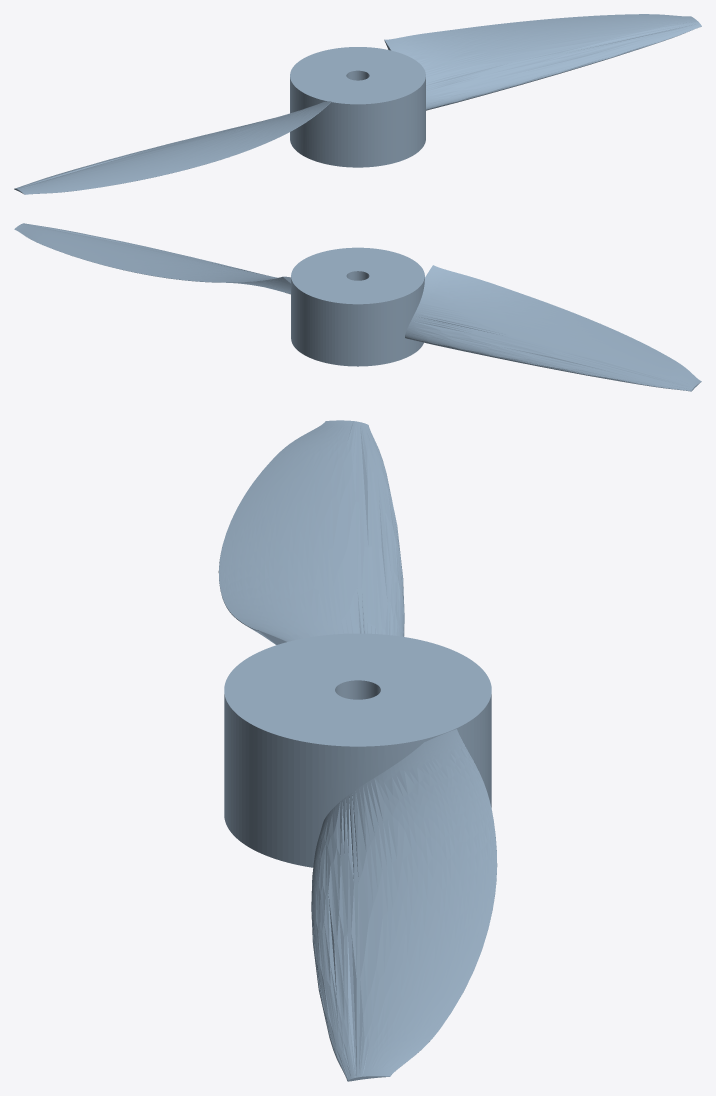
File: 8in-oversized.glb
The picture shows the model from 3 angles, top to bottom: view 1: azimuth 30°, elevation 25°; view 2: azimuth 150°, elevation 25°; view 3: azimuth 270°, elevation 25°; orthographic projection. The views are drawn at different scales.
Parts seen in each view (by area): view 1: 8in-oversized.stl; view 2: 8in-oversized.stl; view 3: 8in-oversized.stl.
Boxes of the visible parts, bbox=[...] form: 8in-oversized.stl: bbox=[14, 14, 701, 194]; 8in-oversized.stl: bbox=[14, 223, 701, 391]; 8in-oversized.stl: bbox=[218, 420, 497, 1081].
Size of the model in its own units: 0.2032 by 0.0195 by 0.0365.
